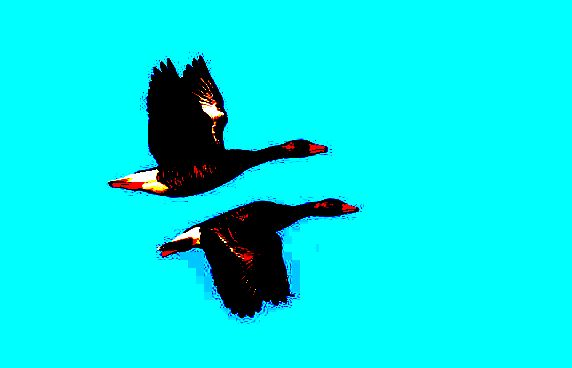Bird: (104, 52, 330, 200), (156, 198, 362, 321)
